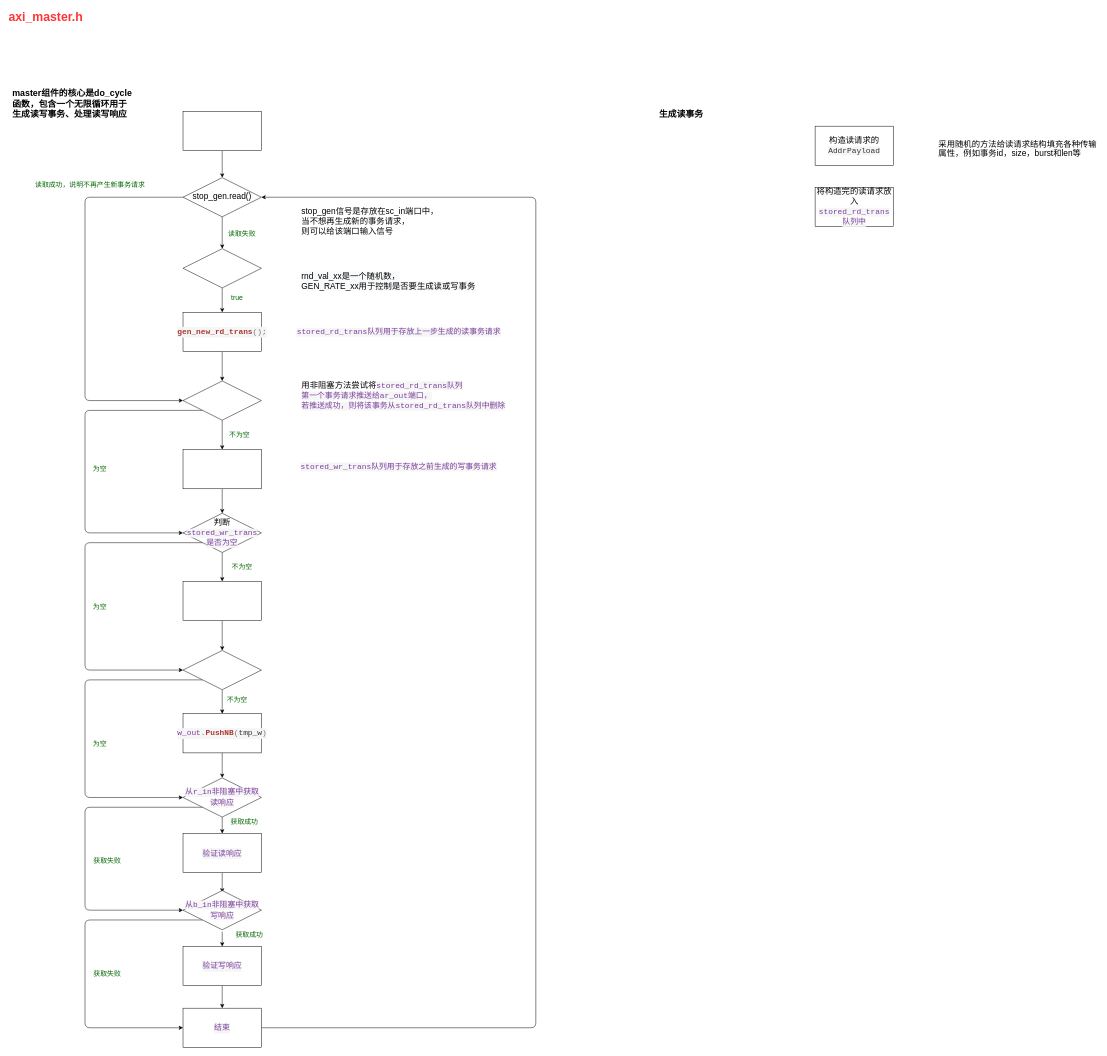
Image size: 1107x1056. Some labels were removed from this diagram. The centre of each missing label's shape, as x and y in pixels:
"ar_out . PushNB ( tmp_ar )" belongs at (x=222, y=469).
"aw_out . PushNB ( tmp_aw)" belongs at (x=222, y=601).
"rnd_val_xx < GEN_RATE_XX" belongs at (x=222, y=268).
"初始化数据" belongs at (x=222, y=131).
"判断 stored_rd_trans是否为空" belongs at (x=222, y=400).
"判断 stored_wr_data 是否为空" belongs at (x=222, y=670).
